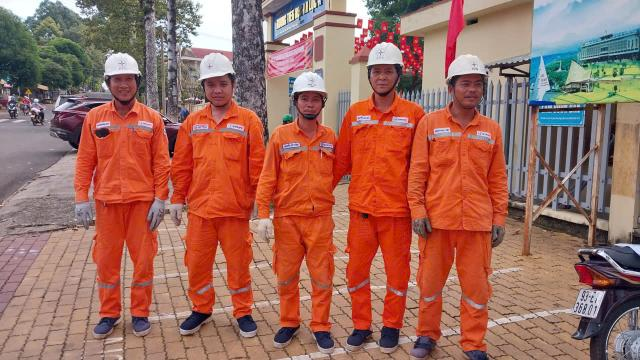gloves: (394, 204, 439, 241), (66, 194, 95, 232), (252, 208, 276, 251), (142, 195, 166, 232), (170, 192, 192, 228), (484, 214, 506, 250)
helmet: (94, 50, 151, 79), (440, 54, 498, 82), (284, 65, 330, 100), (356, 38, 406, 69), (184, 51, 236, 80)
shoes: (170, 302, 219, 340), (344, 315, 374, 352), (125, 307, 156, 340), (274, 316, 304, 349), (308, 317, 334, 354), (86, 308, 117, 338), (230, 307, 259, 338), (379, 321, 402, 355), (454, 338, 489, 360), (411, 330, 436, 359)
